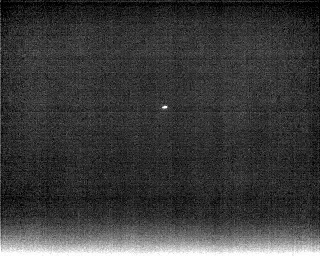BIRD: (160, 103, 169, 111)
